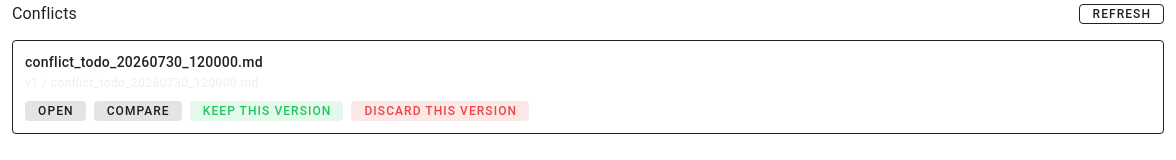
ConflictsPanel › "Discard this version" deletes the conflict file and refreshes
Click the button with test id "conflict-discard-btn" at (440,111), box [351, 101, 529, 121]
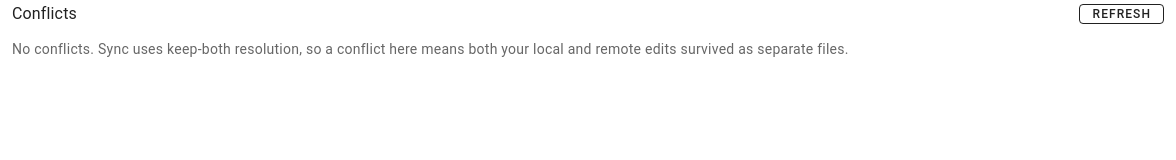
Now no elements with test id "conflict-row" are shown
